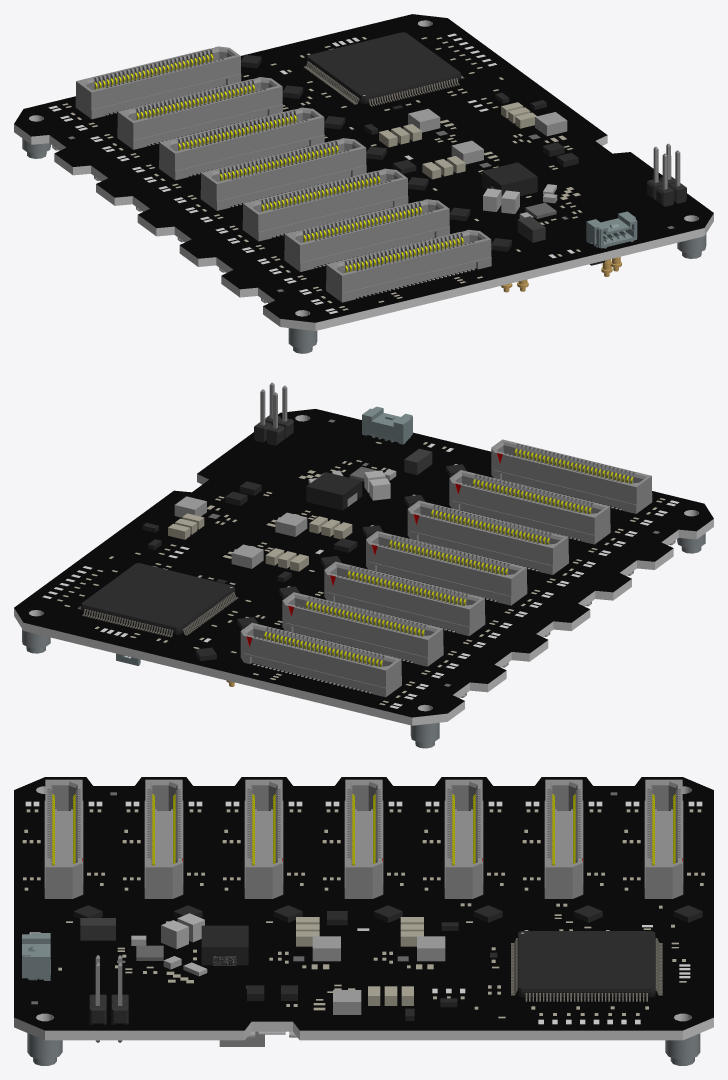
Rendered from backplane-v6.glb.
3 views of the same model, one above another, from view 1: azimuth 30°, elevation 25°; view 2: azimuth 150°, elevation 25°; view 3: azimuth 270°, elevation 25° (orthographic). The views are drawn at different scales.
Visible parts, largest first — view 1: board, parts, blocks, inst_0_0, inst_0_3, inst_0_5, inst_0_1, inst_0_4, inst_0_2, inst_0_6, decals, if_1 (+3 smaller); view 2: board, parts, blocks, inst_0_6, inst_0_5, inst_0_1, inst_0_2, inst_0_0, inst_0_3, inst_0_4, decals, if_1 (+3 smaller); view 3: board, parts, blocks, decals, inst_0_0, inst_0_1, inst_0_2, inst_0_3, inst_0_4, inst_0_5, inst_0_6, if_1 (+4 smaller).
Part boxes in pixels (x1=…): board: x1=14, y1=14, x2=713, y2=330; parts: x1=303, y1=32, x2=537, y2=196; blocks: x1=241, y1=55, x2=604, y2=265; inst_0_0: x1=326, y1=229, x2=491, y2=302; inst_0_3: x1=200, y1=138, x2=366, y2=210; inst_0_5: x1=117, y1=77, x2=282, y2=149; inst_0_1: x1=284, y1=199, x2=449, y2=271; inst_0_4: x1=159, y1=107, x2=324, y2=180; inst_0_2: x1=242, y1=168, x2=408, y2=241; inst_0_6: x1=75, y1=46, x2=241, y2=119; decals: x1=48, y1=33, x2=674, y2=313; if_1: x1=586, y1=211, x2=637, y2=248; board: x1=14, y1=409, x2=713, y2=725; parts: x1=77, y1=472, x2=362, y2=637; blocks: x1=142, y1=448, x2=467, y2=661; inst_0_6: x1=240, y1=622, x2=401, y2=697; inst_0_5: x1=282, y1=592, x2=443, y2=666; inst_0_1: x1=449, y1=470, x2=610, y2=544; inst_0_2: x1=407, y1=500, x2=568, y2=574; inst_0_0: x1=491, y1=439, x2=652, y2=513; inst_0_3: x1=366, y1=531, x2=527, y2=605; inst_0_4: x1=324, y1=561, x2=485, y2=635; decals: x1=42, y1=419, x2=679, y2=708; if_1: x1=362, y1=406, x2=412, y2=444; board: x1=14, y1=777, x2=713, y2=1040; parts: x1=201, y1=925, x2=662, y2=1001; blocks: x1=73, y1=905, x2=702, y2=1020; decals: x1=22, y1=792, x2=704, y2=1024; inst_0_0: x1=44, y1=779, x2=83, y2=898; inst_0_1: x1=144, y1=779, x2=183, y2=898; inst_0_2: x1=244, y1=779, x2=283, y2=898; inst_0_3: x1=344, y1=779, x2=383, y2=898; inst_0_4: x1=444, y1=779, x2=483, y2=898; inst_0_5: x1=544, y1=779, x2=583, y2=898; inst_0_6: x1=644, y1=779, x2=683, y2=898; if_1: x1=22, y1=933, x2=50, y2=980.
Bounding box in the file's own units: 87 × 22.51 × 102.
